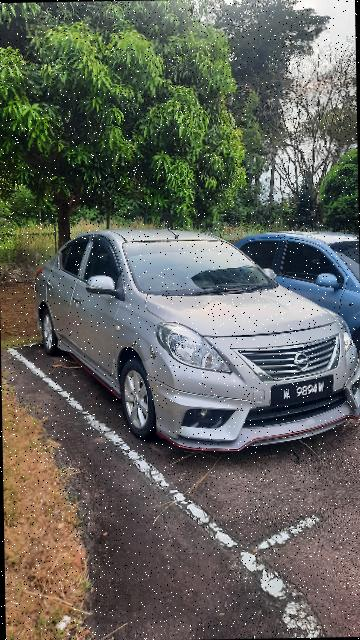License_Plate: (253, 365, 341, 407)
car: (22, 221, 360, 460), (225, 224, 360, 366)
